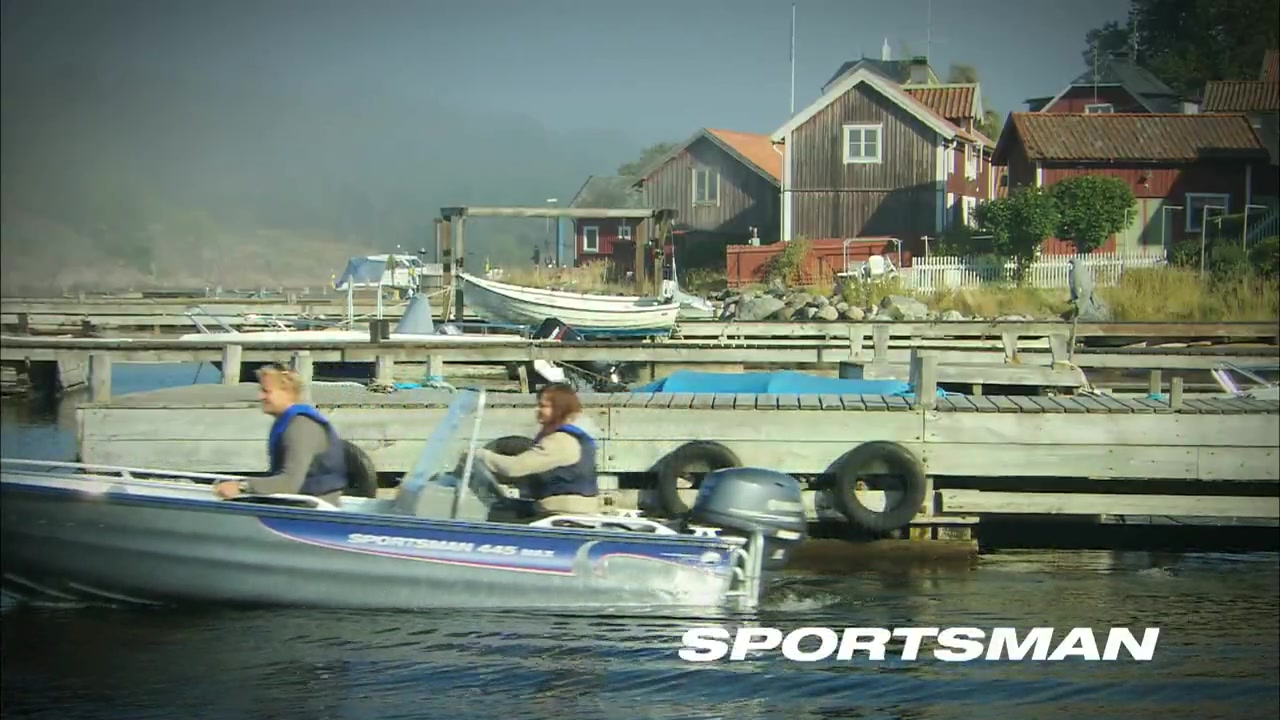boat: (2, 392, 812, 630)
